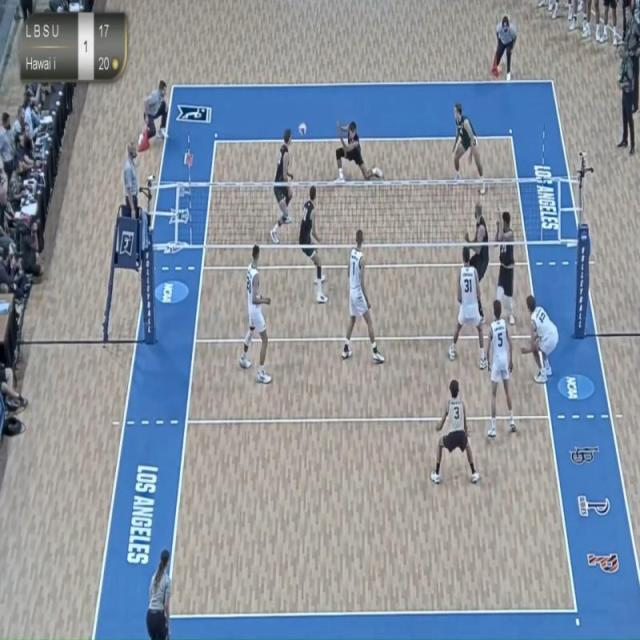volleyball: (296, 119, 311, 142)
